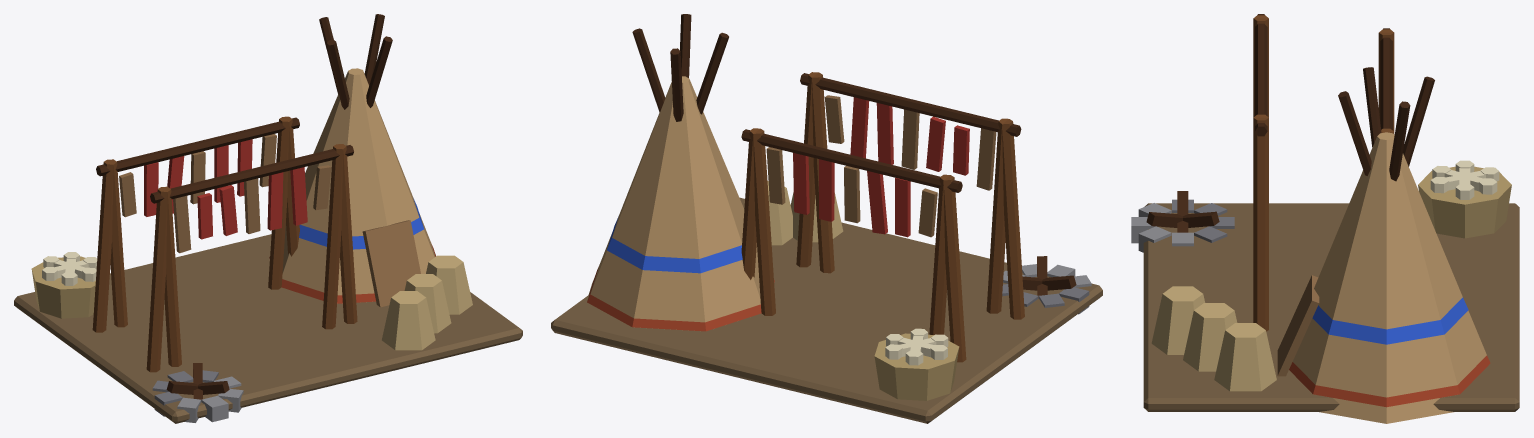
File: Granary.glb
The picture shows the model from 3 angles, left to right: view 1: azimuth 30°, elevation 25°; view 2: azimuth 150°, elevation 25°; view 3: azimuth 270°, elevation 25°; orthographic projection. The views are drawn at different scales.
Parts seen in each view (by area): view 1: Granary; view 2: Granary; view 3: Granary.
Boxes of the visible parts, x1,y1,x2,y2 form: Granary: (14,14,522,423); Granary: (551,14,1102,423); Granary: (1131,14,1519,423).
Bounding box in the file's own units: 2.9 × 1.9 × 2.28.
